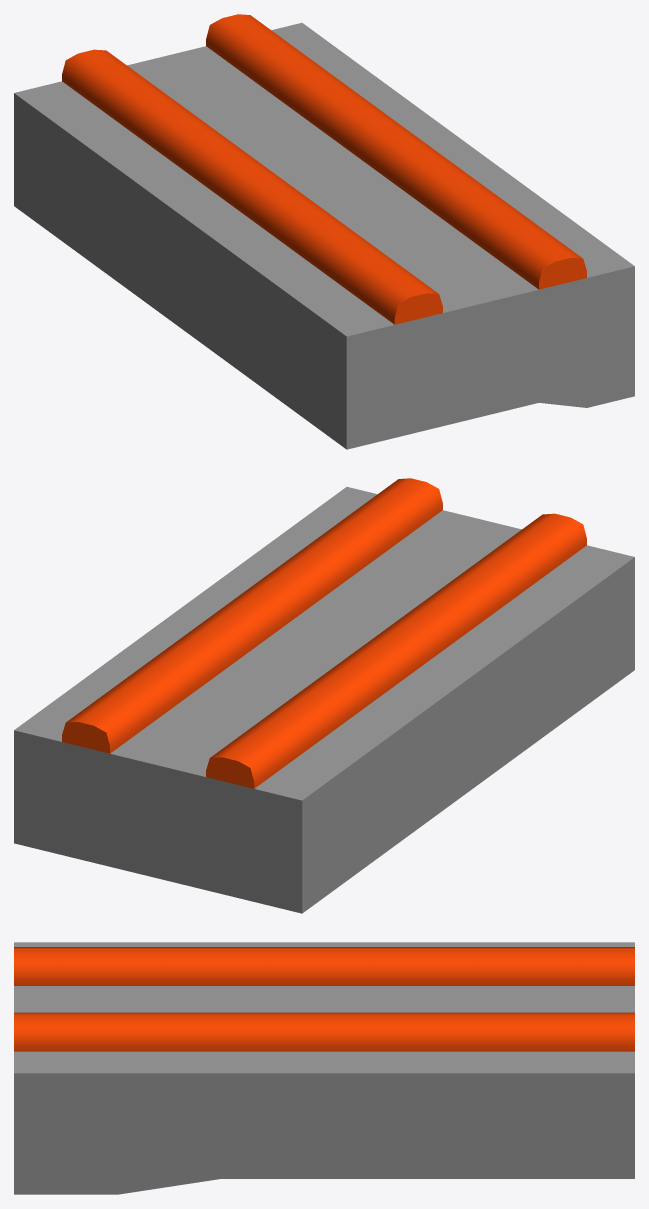
File: Rail_9.fbx
The picture shows the model from 3 angles, top to bottom: view 1: azimuth 30°, elevation 25°; view 2: azimuth 150°, elevation 25°; view 3: azimuth 270°, elevation 25°; orthographic projection. The views are drawn at different scales.
Parts seen in each view (by area): view 1: Rail_9; view 2: Rail_9; view 3: Rail_9.
Part boxes in pixels (x1=…): Rail_9: x1=14, y1=14, x2=634, y2=449; Rail_9: x1=14, y1=478, x2=634, y2=913; Rail_9: x1=14, y1=942, x2=634, y2=1194.
Bounding box in the file's own units: 160 × 81.75 × 320.
